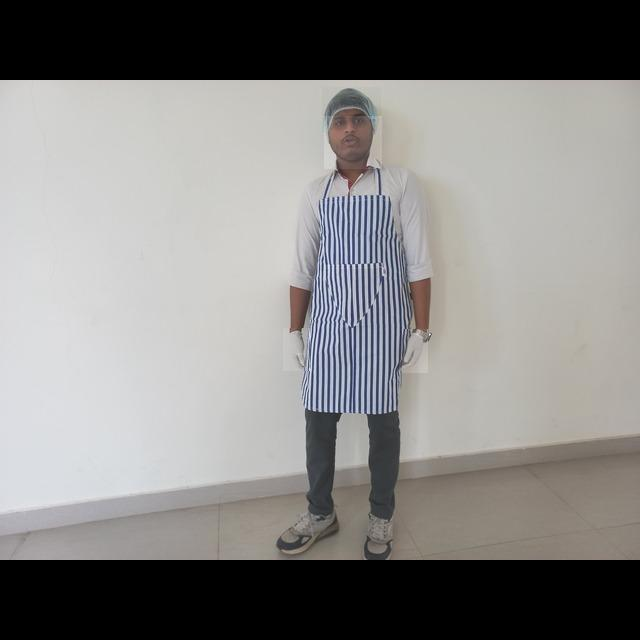apron: (284, 329, 311, 372), (402, 330, 428, 374)
gloves: (322, 88, 382, 134)
no_hairnet: (325, 116, 383, 170)
